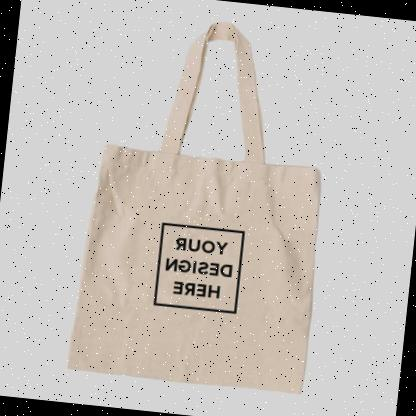bag: (52, 0, 352, 403)
